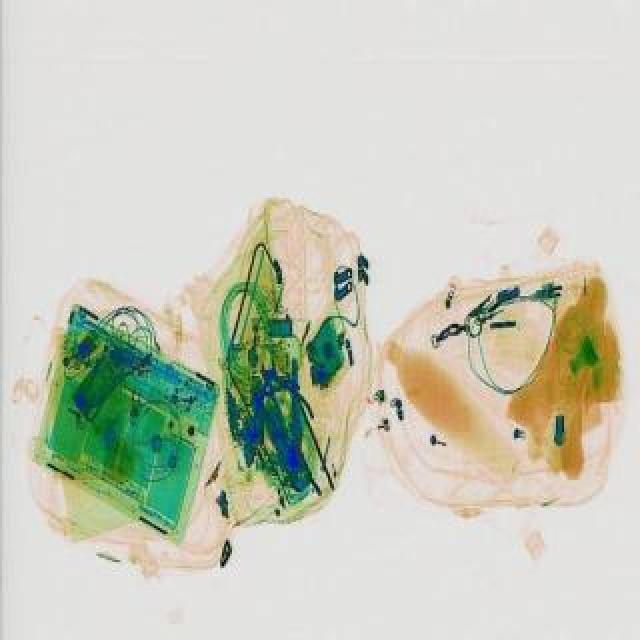wrench: (236, 354, 330, 498), (232, 356, 316, 440)
